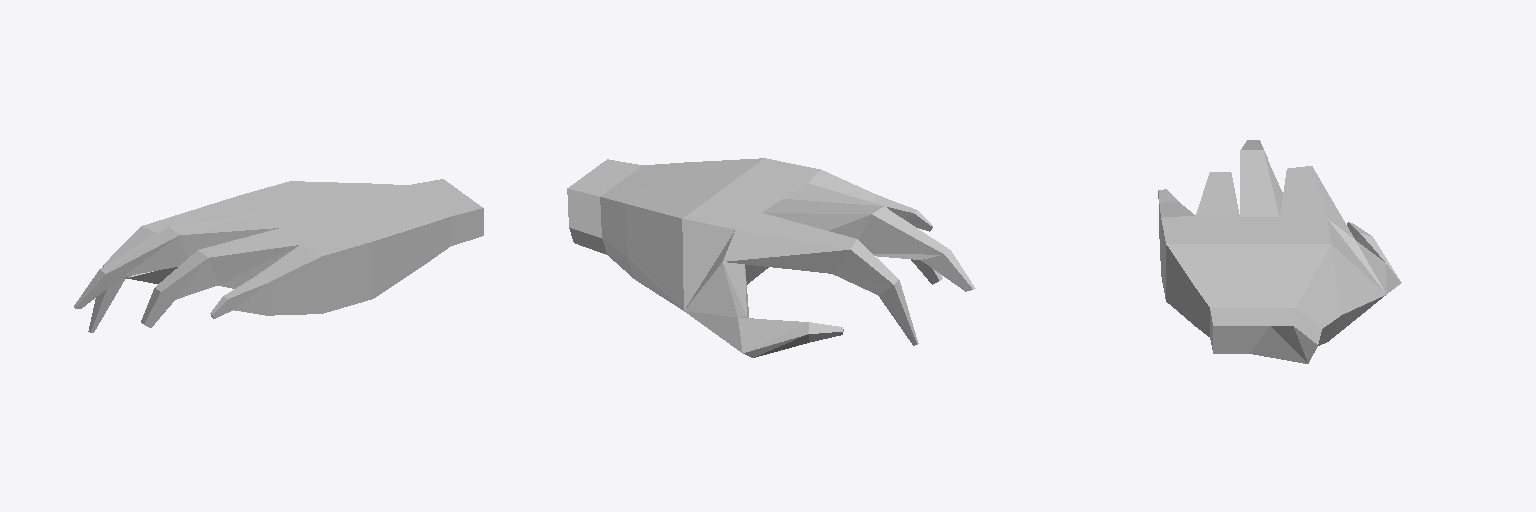
File: hand2.obj
3 renders of one model, left to right at view 1: azimuth 30°, elevation 25°; view 2: azimuth 150°, elevation 25°; view 3: azimuth 270°, elevation 25°, orthographic.
Parts seen in each view (by area): view 1: Cube_Cube.001; view 2: Cube_Cube.001; view 3: Cube_Cube.001.
Boxes of the visible parts, x1=… form: Cube_Cube.001: x1=74, y1=179, x2=483, y2=332; Cube_Cube.001: x1=567, y1=158, x2=975, y2=357; Cube_Cube.001: x1=1158, y1=140, x2=1401, y2=363.
Size of the model in its own units: 14.11 by 4.1 by 7.67.